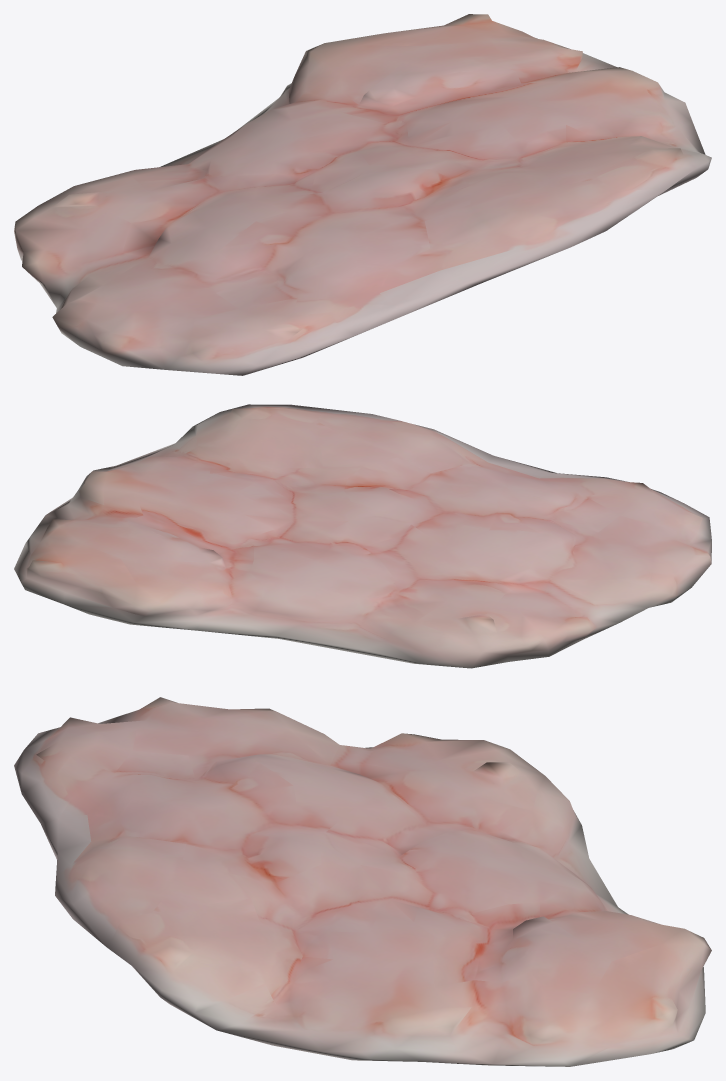
Rendered from oral-mucosa.glb.
The picture shows the model from 3 angles, top to bottom: view 1: azimuth 30°, elevation 25°; view 2: azimuth 150°, elevation 25°; view 3: azimuth 270°, elevation 25°; orthographic projection. The views are drawn at different scales.
Visible parts, largest first — view 1: oral-mucosa; view 2: oral-mucosa; view 3: oral-mucosa.
Part boxes in pixels (x1,y1,x2,y2): oral-mucosa: (14,14,711,375); oral-mucosa: (14,404,711,668); oral-mucosa: (14,697,711,1066).
Size of the model in its own units: 4.92 by 0.6257 by 3.95.
1 material, 1 textured.
